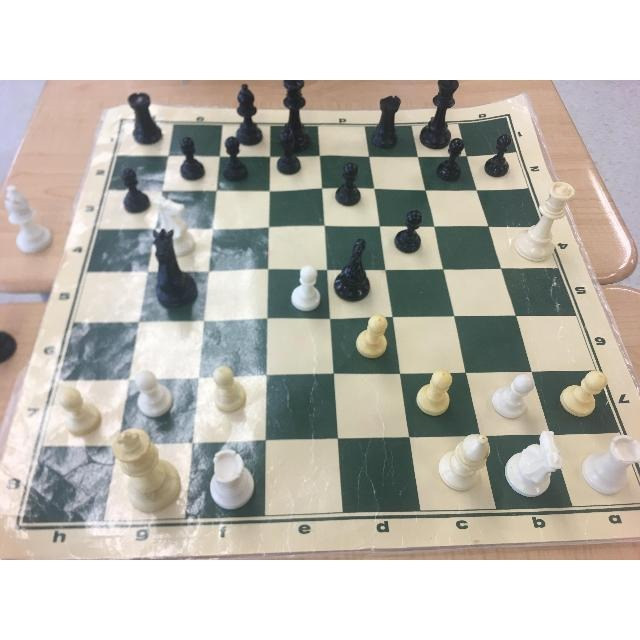black-bishop: (234, 82, 264, 141)
black-king: (419, 81, 466, 147)
black-knight: (146, 230, 204, 313), (330, 238, 382, 298)
black-pawn: (110, 167, 154, 213), (483, 129, 519, 184), (172, 131, 206, 180), (392, 205, 426, 253), (219, 128, 251, 178), (334, 159, 364, 210), (443, 136, 469, 189), (279, 130, 310, 172)
black-queen: (279, 80, 313, 146)
black-rook: (116, 87, 167, 141), (374, 90, 404, 156)
white-bishop: (429, 427, 497, 495)
white-king: (105, 423, 187, 518)
white-knight: (507, 427, 565, 499), (152, 193, 207, 248)
white-pawn: (128, 358, 189, 419), (49, 369, 111, 429), (200, 361, 259, 423), (486, 365, 541, 419), (411, 363, 465, 413), (558, 368, 606, 417), (283, 259, 323, 313), (350, 311, 394, 358)
white-queen: (524, 164, 576, 284)
white-rook: (201, 436, 262, 505), (584, 427, 639, 501)
